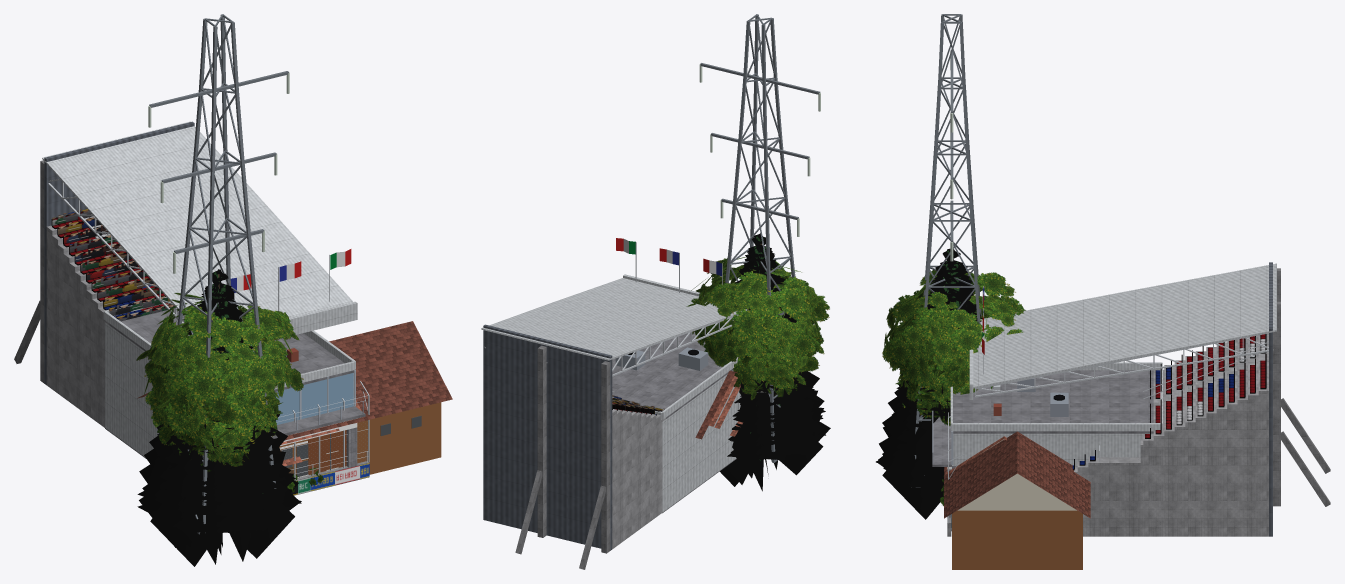
File: scenery.glb
The picture shows the model from 3 angles, left to right: view 1: azimuth 30°, elevation 25°; view 2: azimuth 150°, elevation 25°; view 3: azimuth 270°, elevation 25°; orthographic projection. The views are drawn at different scales.
Parts seen in each view (by area): view 1: grandstand_module, barn, pit_garage, pylon, tree_broad_2_lod, tree_conifer_1_lod, tree_conifer_1, tree_broad_2, tree_broad_1_lod, tree_conifer_2, tree_broad_3, tree_broad_1 (+3 smaller); view 2: grandstand_module, pit_garage, pylon, tree_broad_2_lod, tree_conifer_1, tree_conifer_1_lod, tree_broad_2, tree_broad_1, tree_broad_1_lod, tree_conifer_2, tree_broad_3, tree_conifer_2_lod (+2 smaller); view 3: grandstand_module, barn, pit_garage, pylon, tree_broad_2_lod, tree_broad_2, tree_conifer_1_lod, tree_conifer_1, tree_broad_1_lod, tree_broad_1, tree_broad_3_lod.
Boxes of the visible parts, <box> form: grandstand_module: <box>14,121,369,495</box>; barn: <box>137,321,452,474</box>; pit_garage: <box>103,297,365,467</box>; pylon: <box>148,14,289,534</box>; tree_broad_2_lod: <box>144,292,303,421</box>; tree_conifer_1_lod: <box>137,269,301,566</box>; tree_conifer_1: <box>139,270,296,564</box>; tree_broad_2: <box>136,299,299,424</box>; tree_broad_1_lod: <box>149,336,280,459</box>; tree_conifer_2: <box>158,432,285,554</box>; tree_broad_3: <box>156,398,270,471</box>; tree_broad_1: <box>144,335,282,460</box>; grandstand_module: <box>481,238,748,569</box>; pit_garage: <box>612,331,741,513</box>; pylon: <box>699,14,820,462</box>; tree_broad_2_lod: <box>691,258,829,367</box>; tree_conifer_1: <box>726,234,826,484</box>; tree_conifer_1_lod: <box>720,233,830,491</box>; tree_broad_2: <box>686,256,824,366</box>; tree_broad_1: <box>706,308,819,385</box>; tree_broad_1_lod: <box>703,308,824,389</box>; tree_conifer_2: <box>736,380,812,478</box>; tree_broad_3: <box>711,332,815,400</box>; tree_conifer_2_lod: <box>731,383,820,465</box>; grandstand_module: <box>947,262,1330,536</box>; barn: <box>944,431,1090,569</box>; pit_garage: <box>932,362,1162,531</box>; pylon: <box>911,14,981,487</box>; tree_broad_2_lod: <box>882,270,1023,383</box>; tree_broad_2: <box>884,285,1025,390</box>; tree_conifer_1_lod: <box>876,248,982,519</box>; tree_conifer_1: <box>878,249,981,515</box>; tree_broad_1_lod: <box>884,305,994,407</box>; tree_broad_1: <box>889,310,976,400</box>; tree_broad_3_lod: <box>899,369,955,425</box>.
Bounding box in the file's own units: 24.69 × 41.35 × 35.03.
20 materials, 12 textured.
